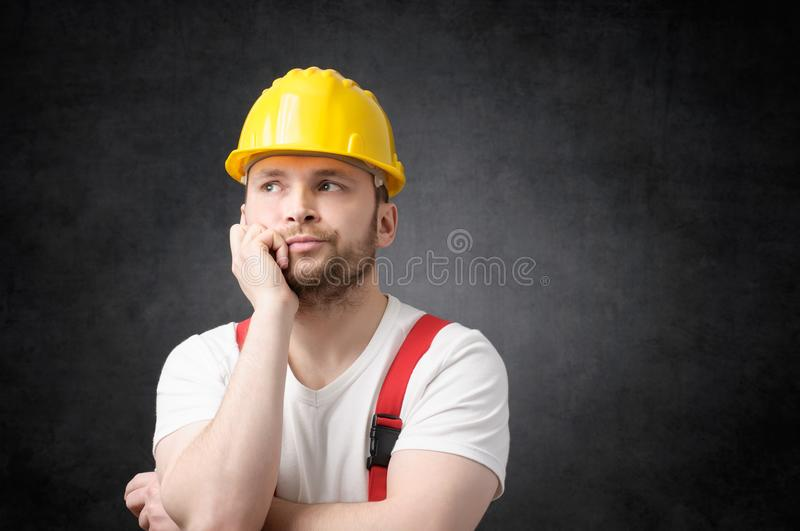safetyhat: (130, 61, 500, 529)
